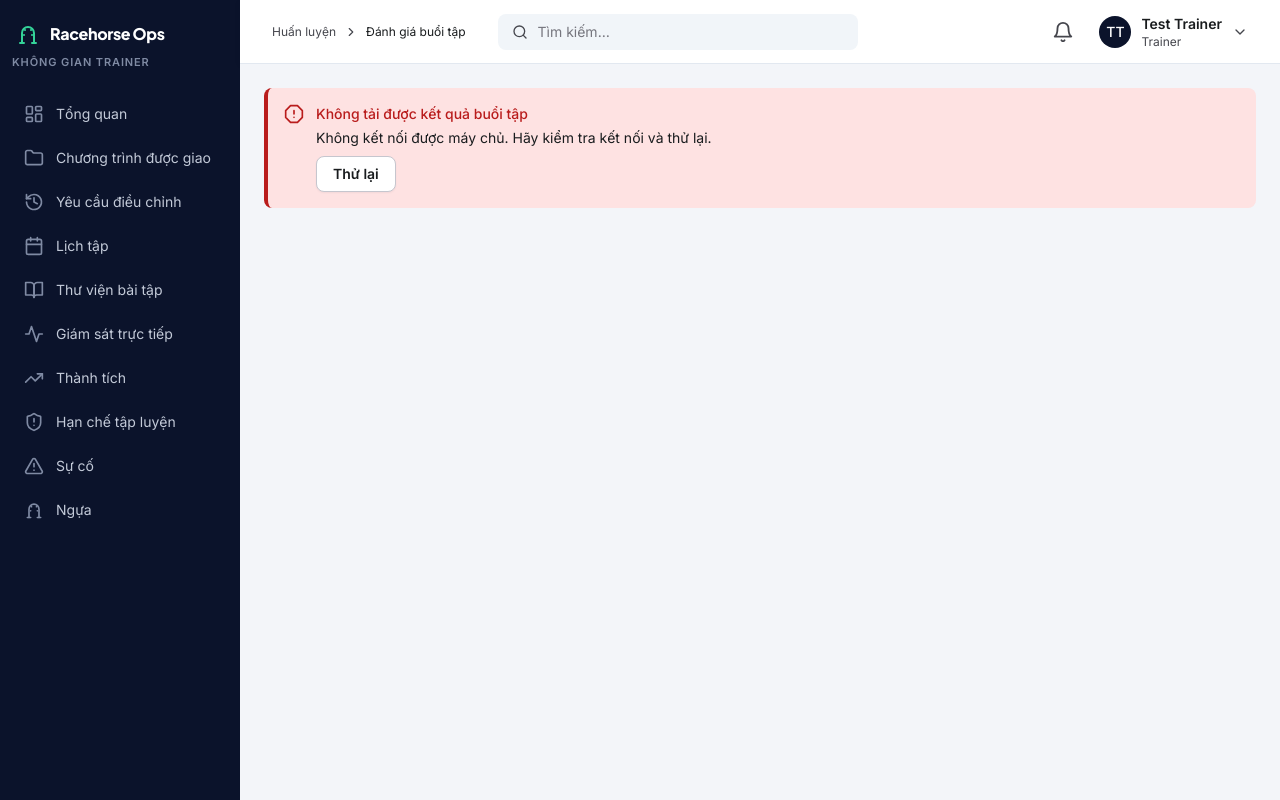
Test case: CORE-033 production route and auth boundary › shows 404 and retries result network errors without runtime fixtures
Expected: the text "Không tải được kết quả buổi tập" is shown, [316,105,528,122]
Click the button "Thử lại" at (356, 174), box [316,156,396,192]
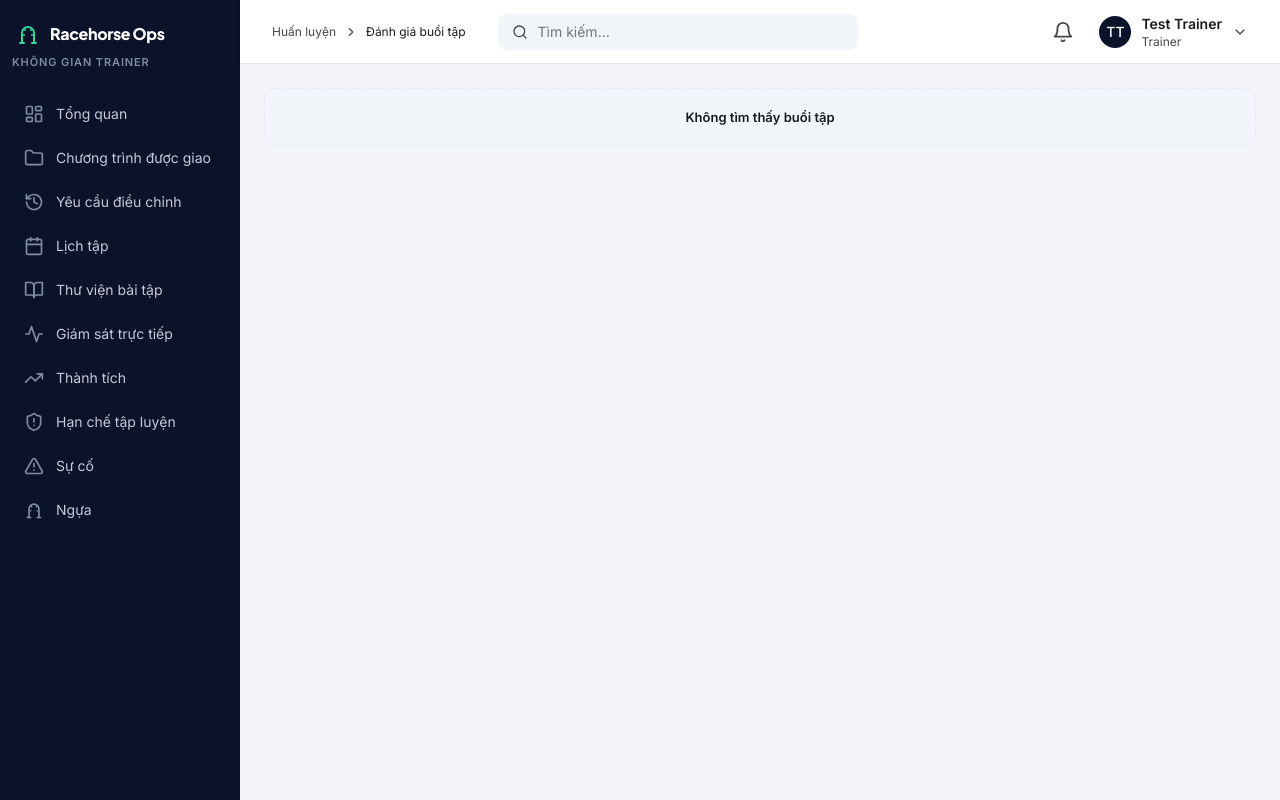
Result: the text "Không tìm thấy buổi tập" is shown at [685,109,835,125]
